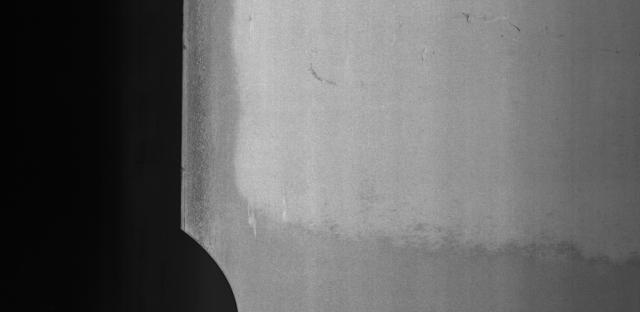crescent_gap: (175, 219, 257, 312)
